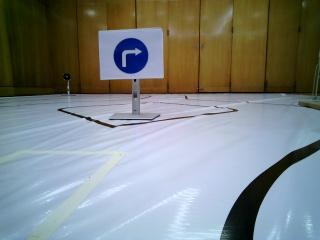right: (101, 31, 162, 79)
